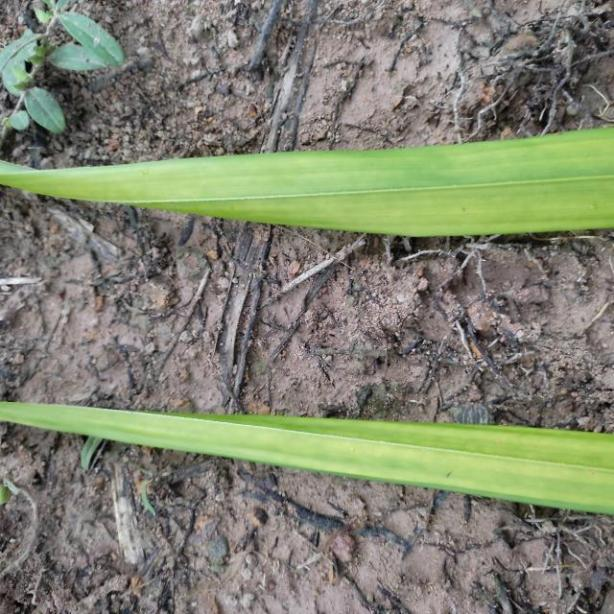nitrogen: (0, 395, 614, 518), (0, 126, 614, 240)
